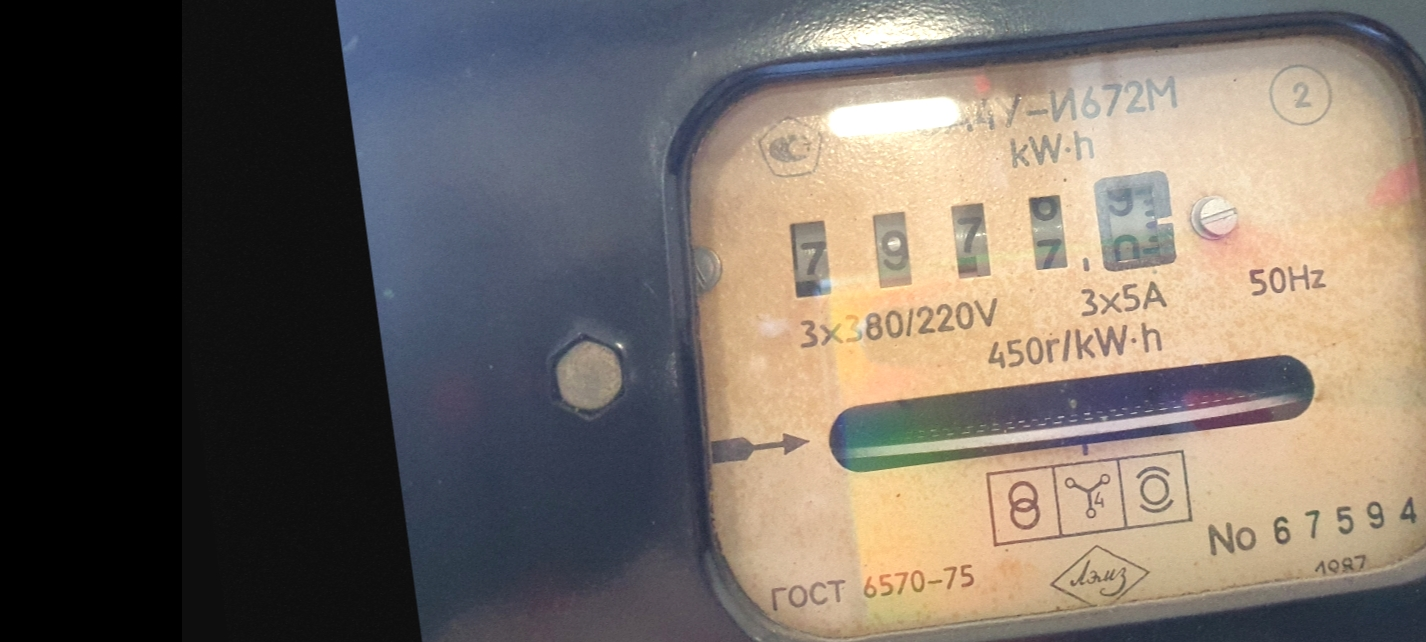0: (1109, 225, 1147, 268)
7: (797, 234, 833, 281), (954, 210, 990, 256), (1034, 232, 1069, 272)
9: (876, 224, 915, 273), (1104, 179, 1139, 218)
screen: (765, 146, 1208, 337)
